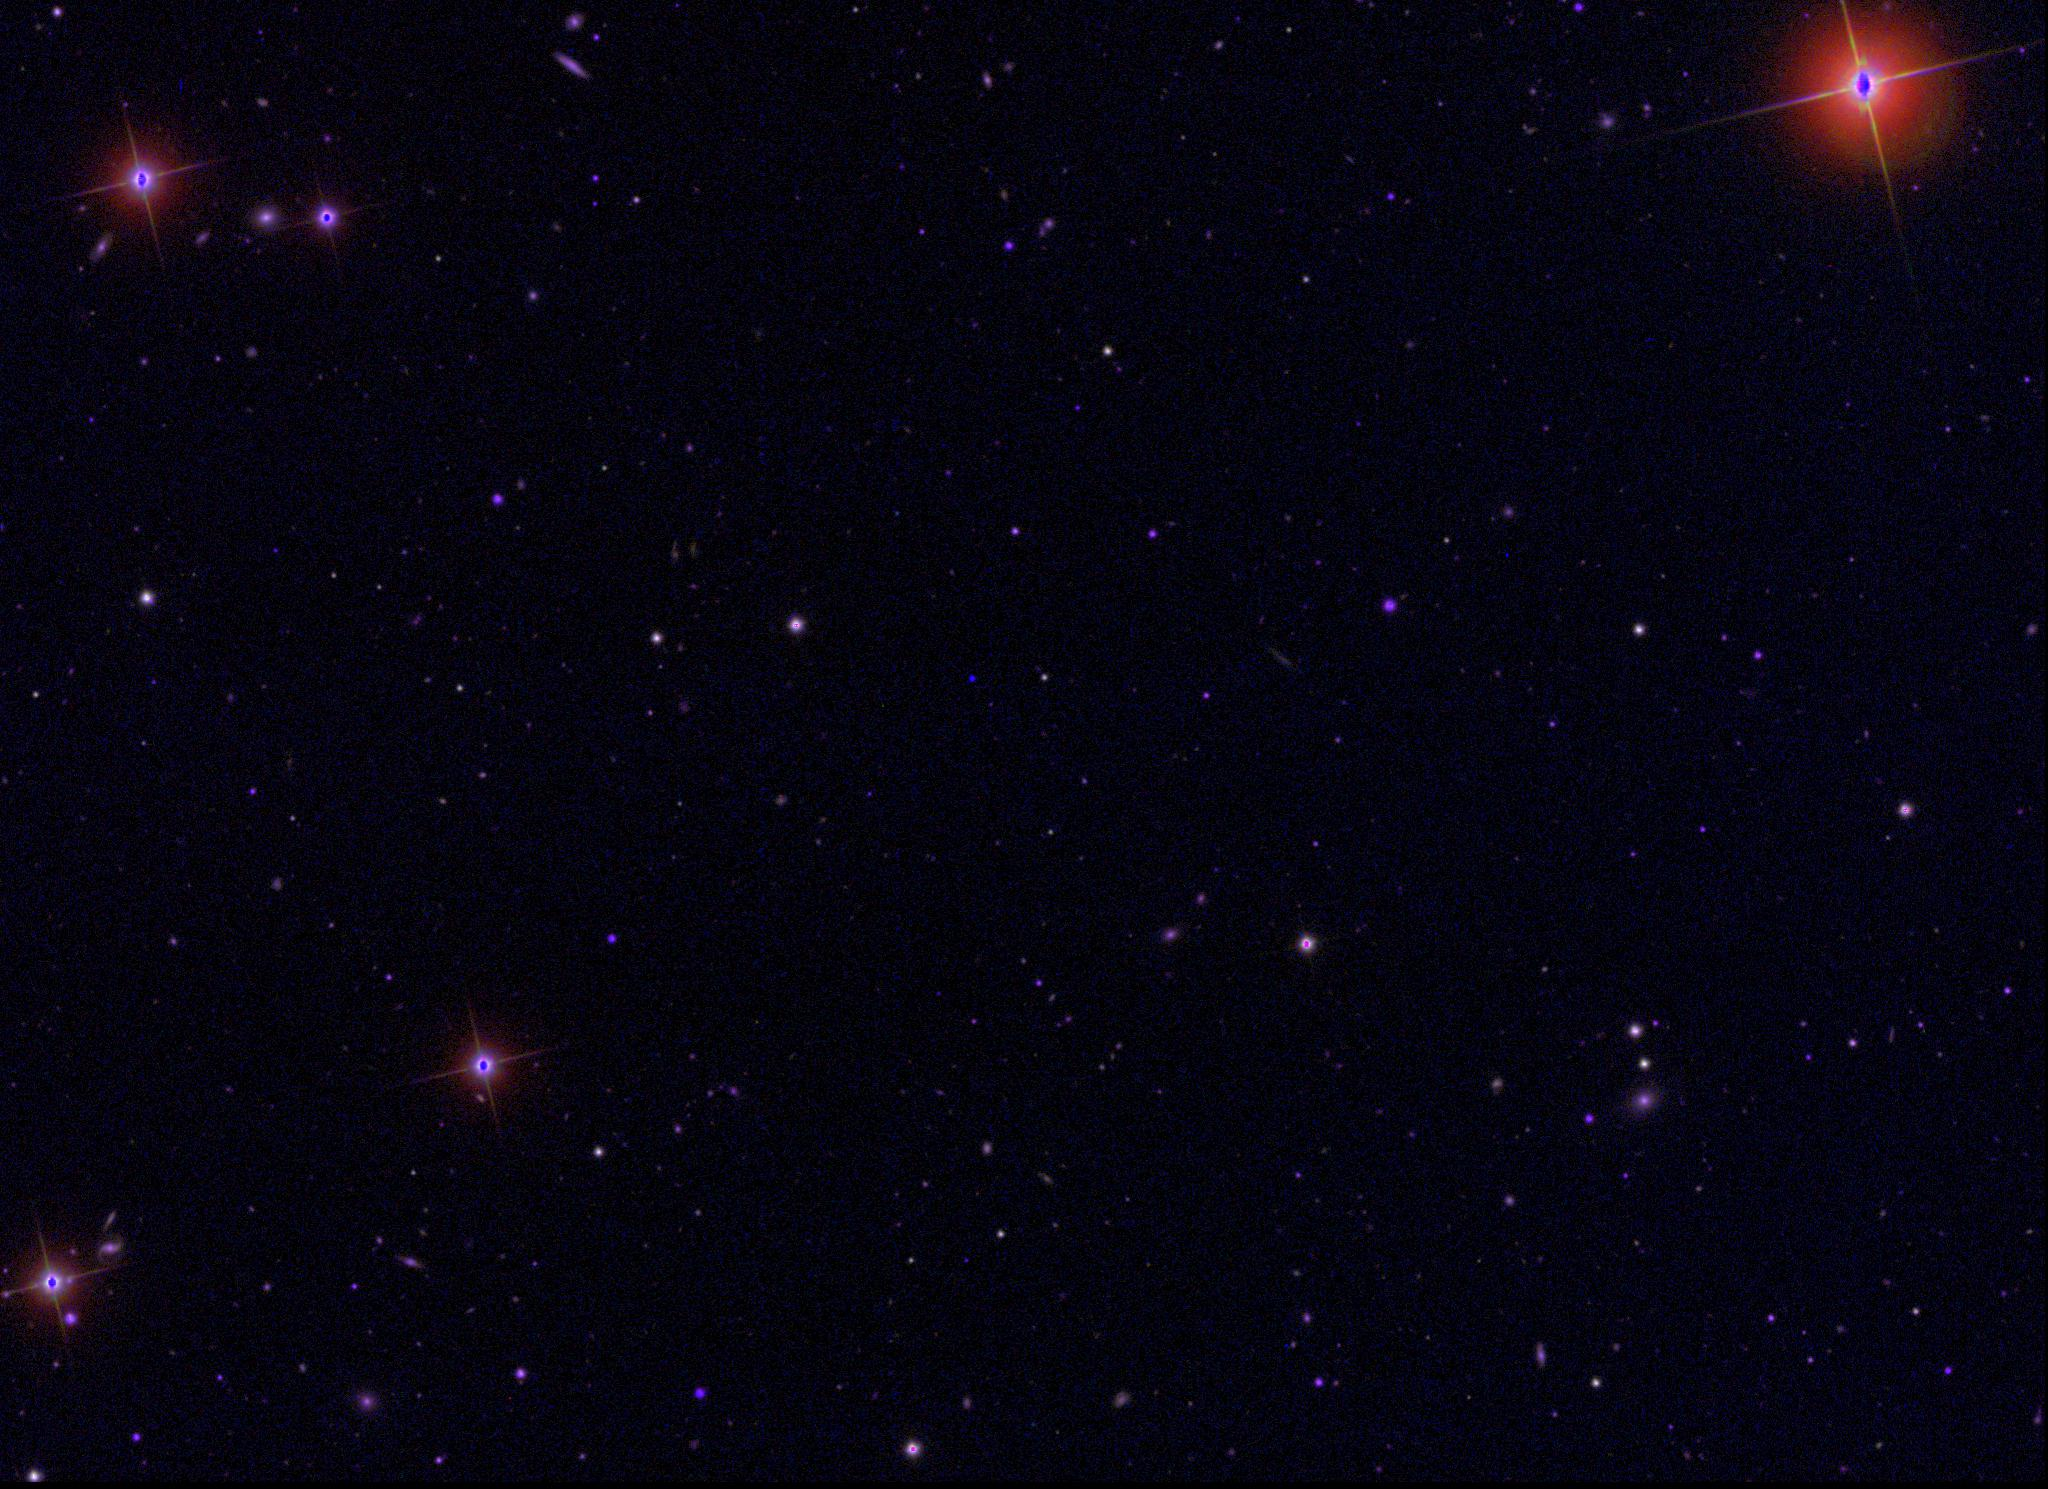L: (967, 671, 981, 686)
